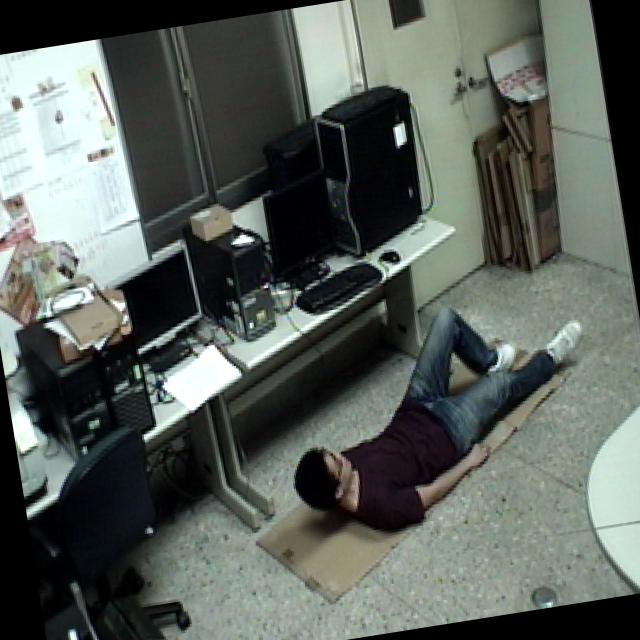lie: (266, 276, 619, 550)
